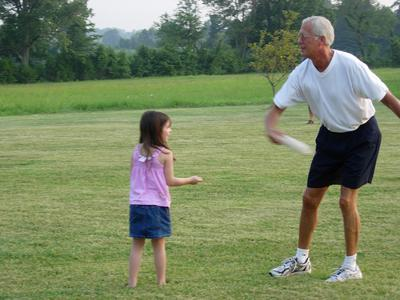person: (263, 14, 400, 284)
